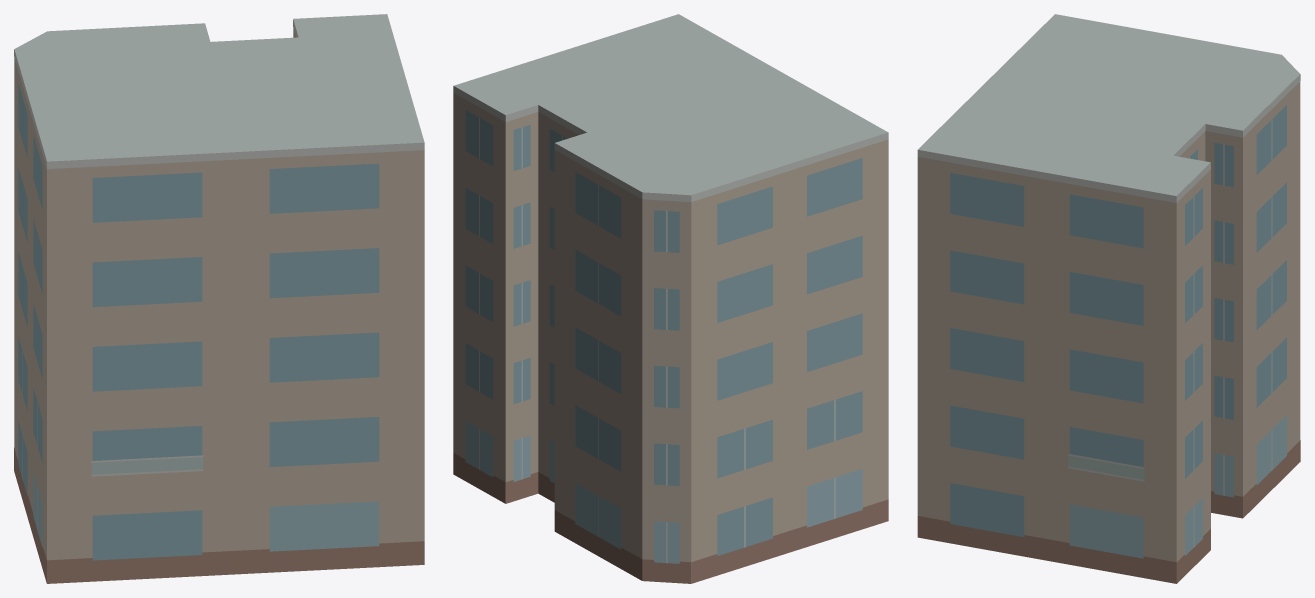
Rendered from survey-upis-32611418.glb.
3 renders of one model, left to right at view 1: azimuth 30°, elevation 25°; view 2: azimuth 150°, elevation 25°; view 3: azimuth 270°, elevation 25°, orthographic. The views are drawn at different scales.
Parts seen in each view (by area): view 1: survey-upis-32611418.tmp; view 2: survey-upis-32611418.tmp; view 3: survey-upis-32611418.tmp.
Boxes of the visible parts, box(x1,y1,x2,y2) form: survey-upis-32611418.tmp: box(14, 14, 424, 583); survey-upis-32611418.tmp: box(453, 14, 888, 583); survey-upis-32611418.tmp: box(917, 14, 1300, 583).
Size of the model in its own units: 13.81 by 13.7 by 12.27.
